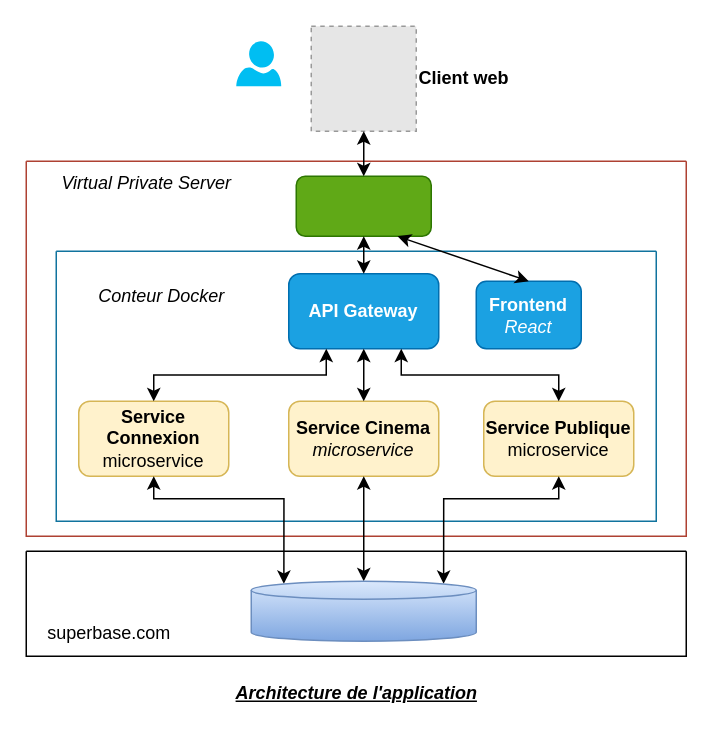
The diagram is 713 pixels wide and 743 high, and some of its shapes have lost their labels. Grey dashed boxes stand in for pictures. Here are the shapes that lost their labels. From the top down, the centre of each, then its label:
At (258,63): "User".
At (363,205): "Nginx Reverse Proxy".
At (363,610): "Postgres SQL".
